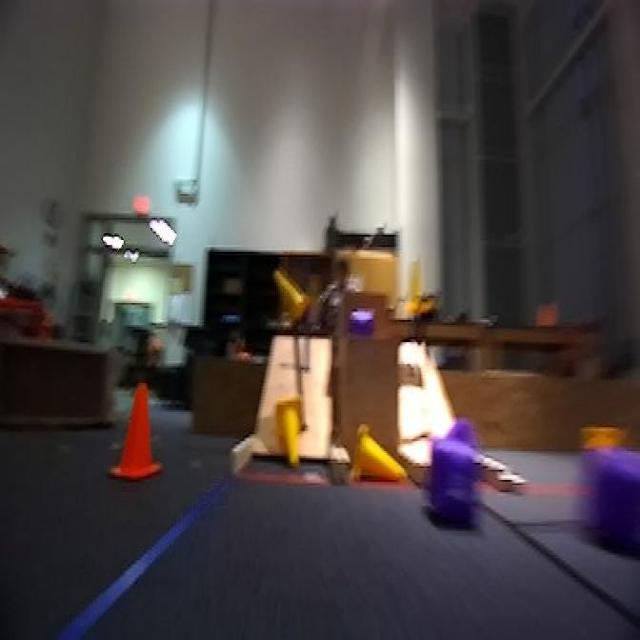frc_cone: (355, 426, 403, 484), (272, 397, 307, 473), (268, 266, 306, 330), (579, 416, 619, 450), (408, 262, 431, 320)
frc_cube: (586, 444, 640, 549), (429, 442, 478, 522), (346, 313, 378, 337)
